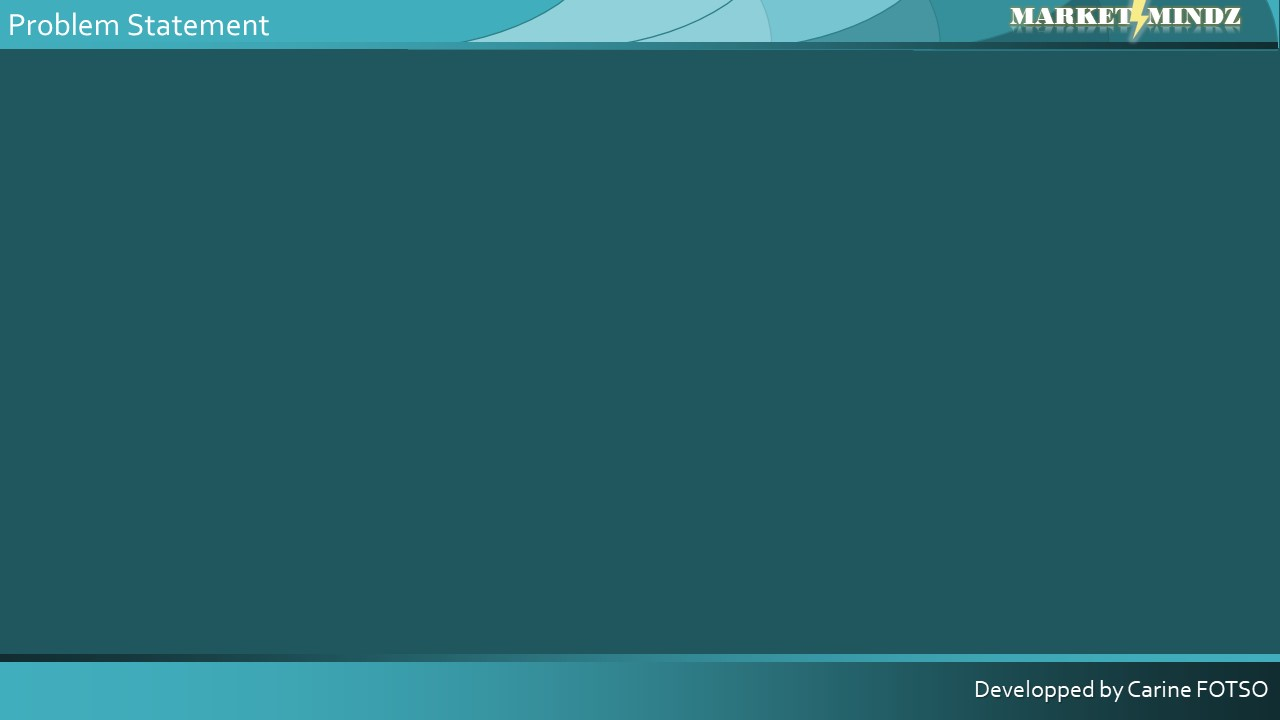

What the dashboard file says about the page in this screenshot:
{"tool":"powerbi","page":{"name":"Problem Statement","canvas":[1280,720],"ordinal":0},"visuals":[{"type":"textbox","box":[30.2,87.5,625.4,540.8],"z":0},{"type":"shape","box":[670.2,97.3,86.6,66.1],"z":1000},{"type":"textbox","box":[672.1,98.2,84.6,64.2],"z":2000},{"type":"shape","box":[668.5,219.1,86.6,66.1],"z":3000},{"type":"textbox","box":[670.4,224.8,84.6,64.2],"z":4000},{"type":"shape","box":[668.5,346.5,86.6,66.1],"z":5000},{"type":"textbox","box":[670.4,348.4,84.6,64.2],"z":6000},{"type":"shape","box":[671.4,471,86.6,66.1],"z":7000},{"type":"textbox","box":[673.3,472,84.6,64.2],"z":8000},{"type":"textbox","box":[784.9,98.2,466.9,82.7],"z":9000},{"type":"textbox","box":[784.9,218.8,466.9,82.7],"z":10000},{"type":"textbox","box":[784.9,346.3,466.9,82.7],"z":11000},{"type":"textbox","box":[767.4,463,468.8,104.1],"z":12000}]}

Visuals, with their boxes in screenshot pixels (x1, y1, x2, y2), scaled from the page's 1280x720 canvas onto the 1280x720 screenshot:
textbox: pyautogui.locateOnScreen(30, 88, 656, 628)
shape: pyautogui.locateOnScreen(670, 97, 757, 163)
textbox: pyautogui.locateOnScreen(672, 98, 757, 162)
shape: pyautogui.locateOnScreen(668, 219, 755, 285)
textbox: pyautogui.locateOnScreen(670, 225, 755, 289)
shape: pyautogui.locateOnScreen(668, 346, 755, 413)
textbox: pyautogui.locateOnScreen(670, 348, 755, 413)
shape: pyautogui.locateOnScreen(671, 471, 758, 537)
textbox: pyautogui.locateOnScreen(673, 472, 758, 536)
textbox: pyautogui.locateOnScreen(785, 98, 1252, 181)
textbox: pyautogui.locateOnScreen(785, 219, 1252, 302)
textbox: pyautogui.locateOnScreen(785, 346, 1252, 429)
textbox: pyautogui.locateOnScreen(767, 463, 1236, 567)
